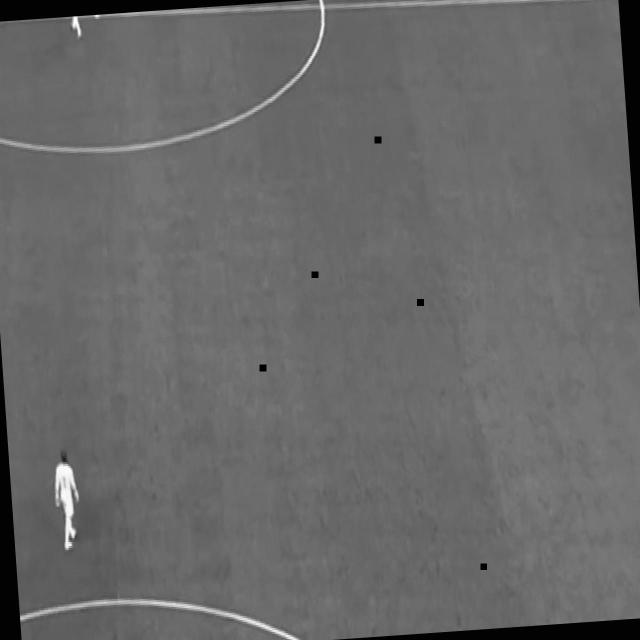player-white: (48, 445, 86, 556), (60, 16, 86, 43)
